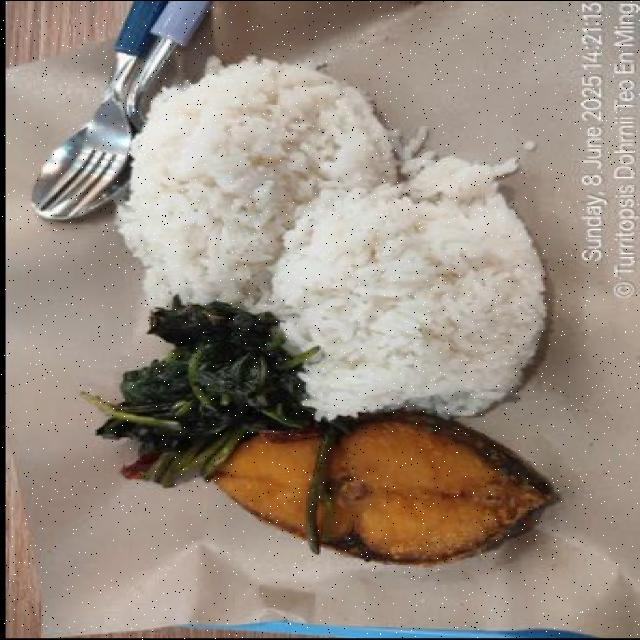Fish: (317, 412, 552, 564), (213, 430, 319, 537)
Green veg: (88, 298, 317, 487)
Rice: (116, 56, 545, 418)
